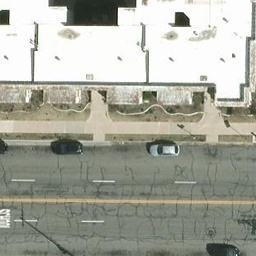car: (50, 138, 82, 155), (150, 140, 181, 157)
